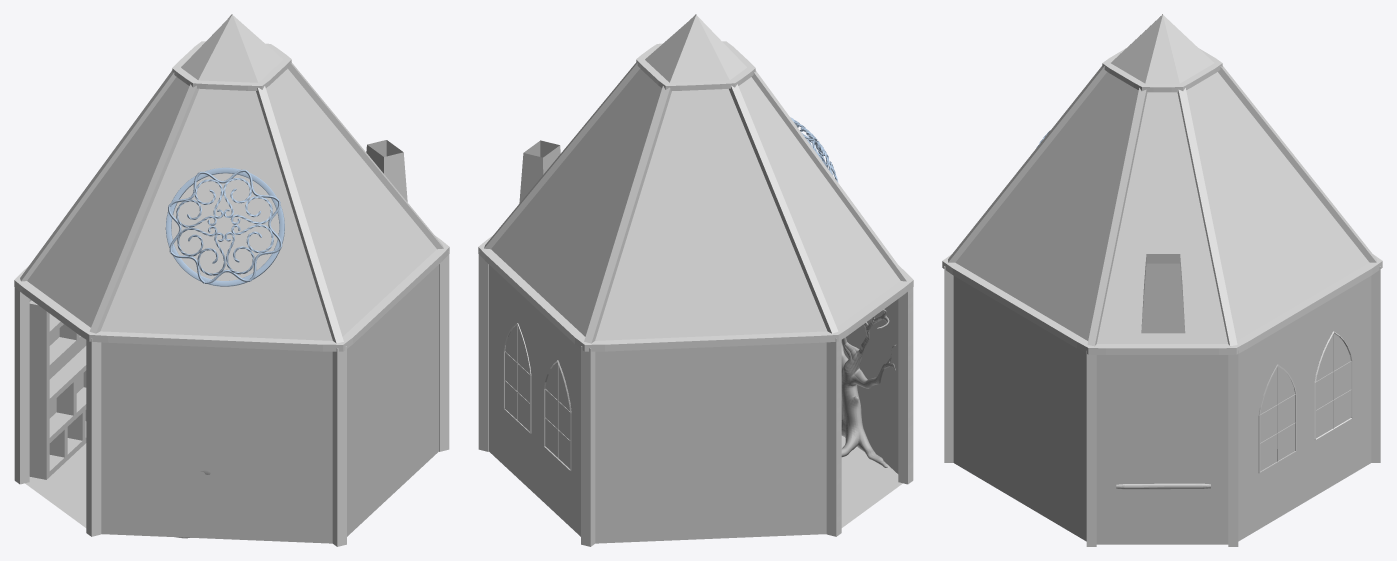
File: CiekawośćPróbaChatkowa.fbx
3 views of the same model, side by side, from view 1: azimuth 30°, elevation 25°; view 2: azimuth 150°, elevation 25°; view 3: azimuth 270°, elevation 25° (orthographic).
Visible parts, largest first — view 1: Cylinder.016, Cylinder, Cylinder.023, Cylinder.017, Cylinder.001, Cylinder.011, Cube.001, Cylinder.027, Cylinder.010, Cylinder.020, Arc.001, Cylinder.018 (+4 smaller); view 2: Cylinder, Cylinder.014, Cylinder.013, Cylinder.001, Cylinder.011, Cylinder.010, Cylinder.016, Cylinder.029, Cylinder.020, polySurface736.001, Cylinder.018, Cylinder.012 (+2 smaller); view 3: Cylinder, Cylinder.017, Cylinder.019, Cylinder.013, Cylinder.011, Cylinder.001, Cylinder.010, Cylinder.029, Cylinder.020, Cube.002, Cylinder.012, Cylinder.021 (+1 smaller).
Part boxes in pixels (x1=…): Cylinder.016: x1=101, y1=342, x2=332, y2=543; Cylinder: x1=27, y1=68, x2=436, y2=336; Cylinder.023: x1=100, y1=88, x2=332, y2=340; Cylinder.017: x1=347, y1=265, x2=438, y2=536; Cylinder.001: x1=14, y1=251, x2=449, y2=546; Cylinder.011: x1=20, y1=62, x2=443, y2=343; Cube.001: x1=29, y1=300, x2=86, y2=479; Cylinder.027: x1=171, y1=173, x2=279, y2=280; Cylinder.010: x1=14, y1=235, x2=449, y2=351; Cylinder.020: x1=181, y1=14, x2=282, y2=82; Arc.001: x1=176, y1=178, x2=273, y2=275; Cylinder.018: x1=25, y1=443, x2=86, y2=527; Cylinder: x1=491, y1=68, x2=900, y2=340; Cylinder.014: x1=595, y1=342, x2=826, y2=543; Cylinder.013: x1=489, y1=265, x2=580, y2=536; Cylinder.001: x1=478, y1=251, x2=913, y2=546; Cylinder.011: x1=484, y1=62, x2=907, y2=343; Cylinder.010: x1=478, y1=235, x2=913, y2=351; Cylinder.016: x1=841, y1=299, x2=898, y2=473; Cylinder.029: x1=505, y1=325, x2=570, y2=468; Cylinder.020: x1=645, y1=14, x2=746, y2=82; polySurface736.001: x1=841, y1=309, x2=895, y2=467; Cylinder.018: x1=841, y1=436, x2=902, y2=527; Cylinder.012: x1=636, y1=41, x2=755, y2=90; Cylinder: x1=955, y1=72, x2=1369, y2=343; Cylinder.017: x1=953, y1=276, x2=1086, y2=541; Cylinder.019: x1=1096, y1=355, x2=1228, y2=544; Cylinder.013: x1=1238, y1=276, x2=1371, y2=541; Cylinder.011: x1=948, y1=66, x2=1376, y2=346; Cylinder.001: x1=944, y1=266, x2=1380, y2=546; Cylinder.010: x1=942, y1=254, x2=1382, y2=354; Cylinder.029: x1=1260, y1=333, x2=1350, y2=471; Cylinder.020: x1=1111, y1=14, x2=1213, y2=83; Cube.002: x1=1141, y1=254, x2=1185, y2=333; Cylinder.012: x1=1102, y1=48, x2=1222, y2=92; Cylinder.021: x1=1258, y1=331, x2=1352, y2=473.
Bounding box in the file's own units: 744 × 892 × 793.
